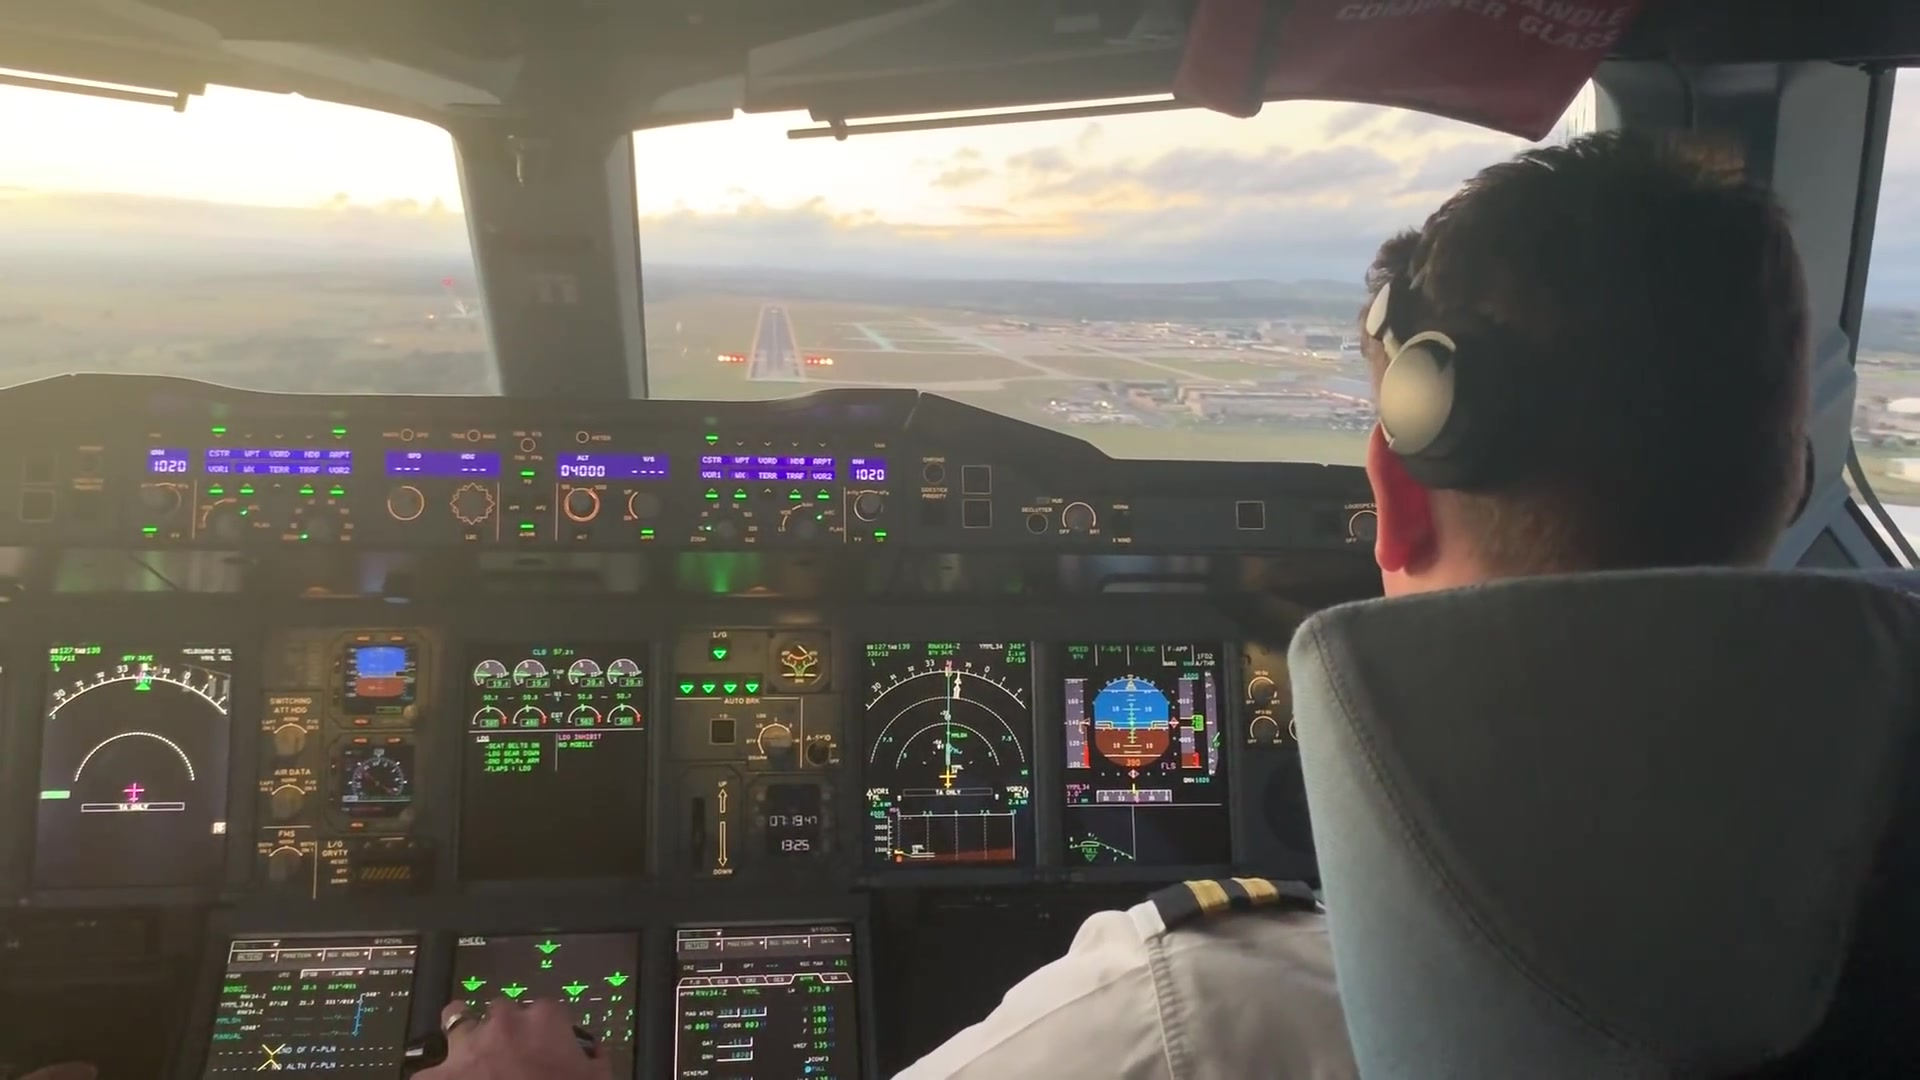runway: (746, 301, 804, 382)
